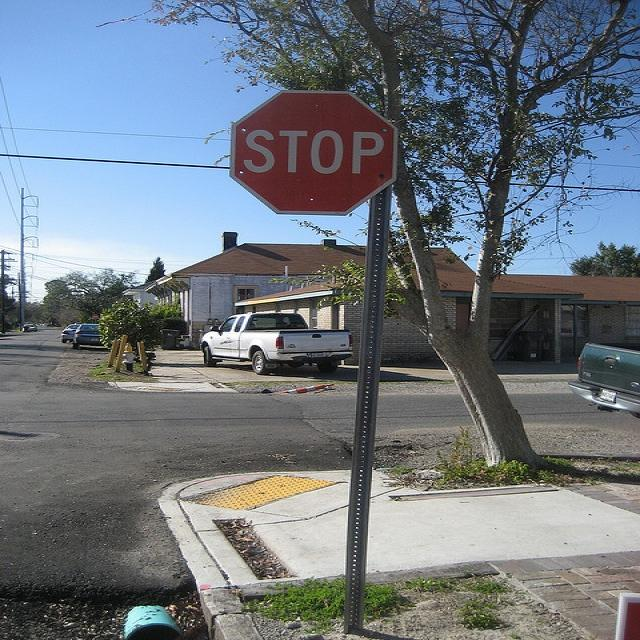car: (71, 322, 101, 348), (57, 322, 80, 342), (20, 322, 36, 331)
fire_hydrant: (120, 341, 135, 371)
pole: (332, 189, 392, 631)
truck: (197, 311, 351, 373), (566, 341, 638, 418)
